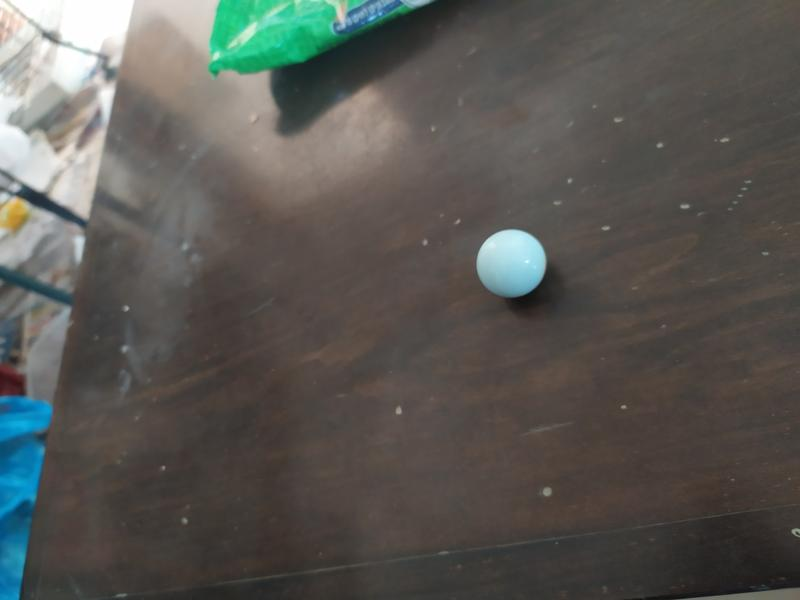Warning: (473, 226, 550, 302)
